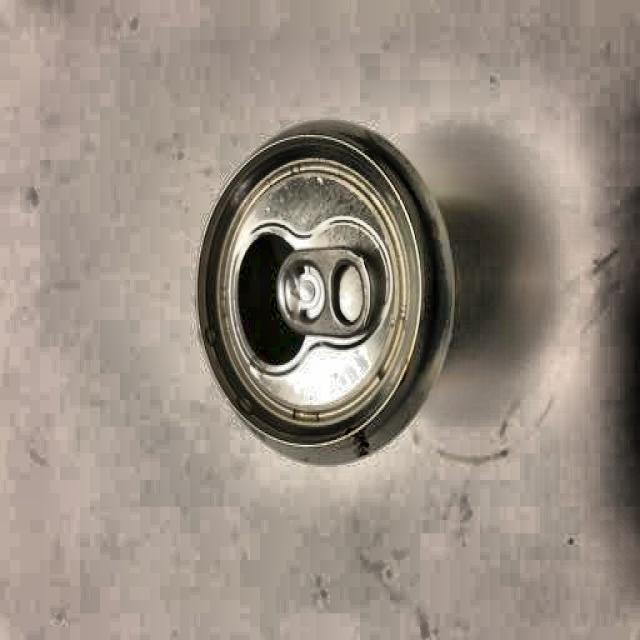metal: (191, 118, 454, 464)
